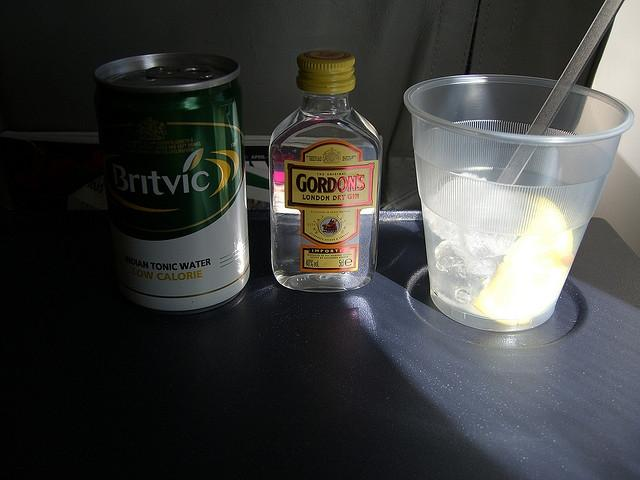lemon: (472, 193, 574, 324)
